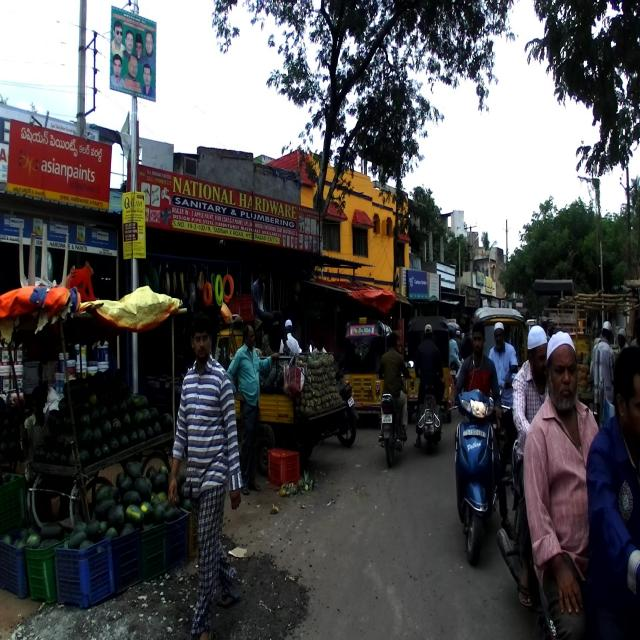autorickshaw: (212, 314, 346, 476), (342, 316, 392, 429)
motorcycle: (496, 438, 578, 616), (378, 360, 413, 466)
scooter: (448, 388, 504, 566), (415, 366, 445, 454)
